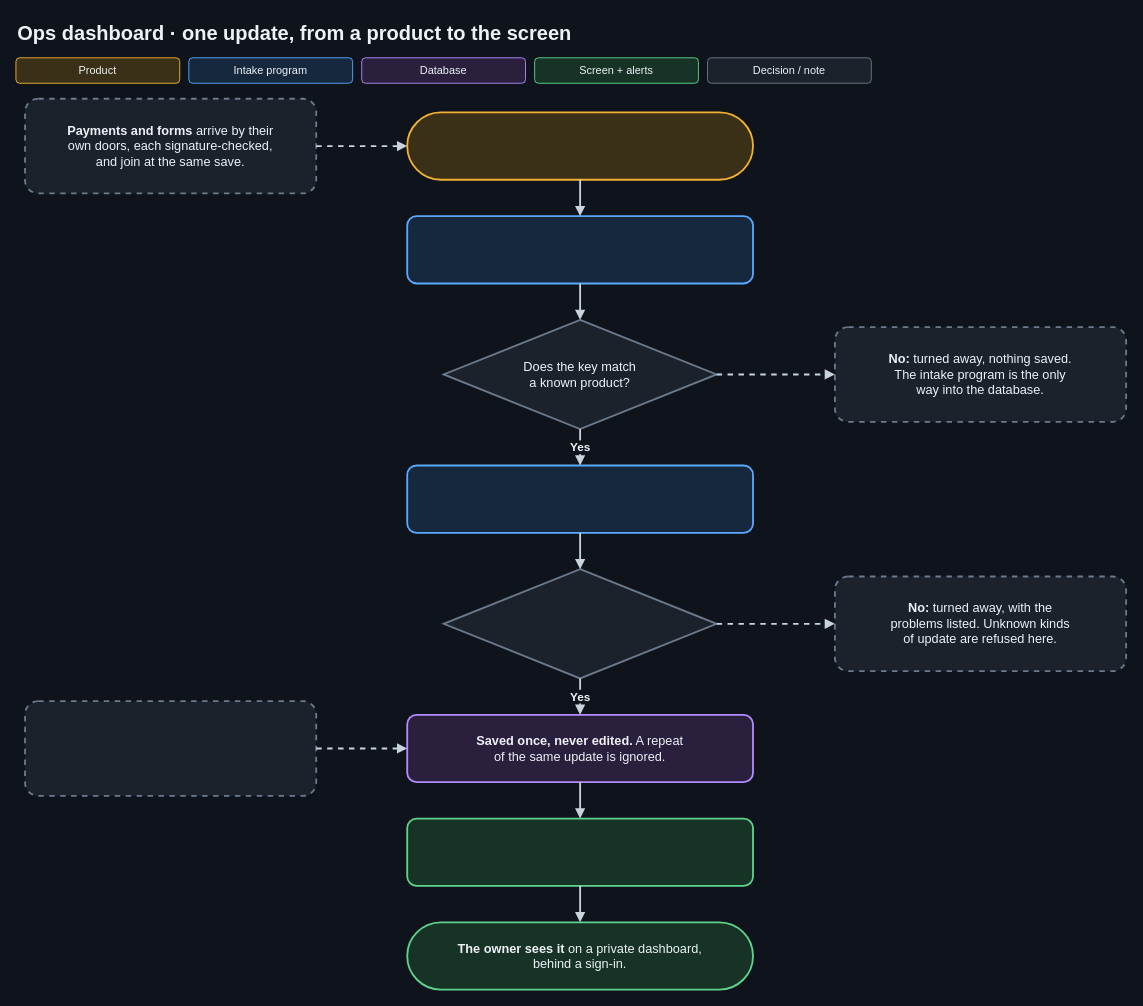
This 1143x1006 diagram has some shape labels left out. The centre of each missing label's shape, as x and y in pixels:
A phone alert for each saved update, unless the product sent its own.: pixel 579 851
A product sends an update: a sale, a sign-up, a reply or an error.: pixel 579 145
Is the update in the right shape?: pixel 579 623
It goes to the intake program , carrying that product's own secret key.: pixel 579 249
Retries are safe. A payment sent twice is still saved once.: pixel 170 748
The key decides which product it is; the update can't claim to be another.: pixel 579 498
